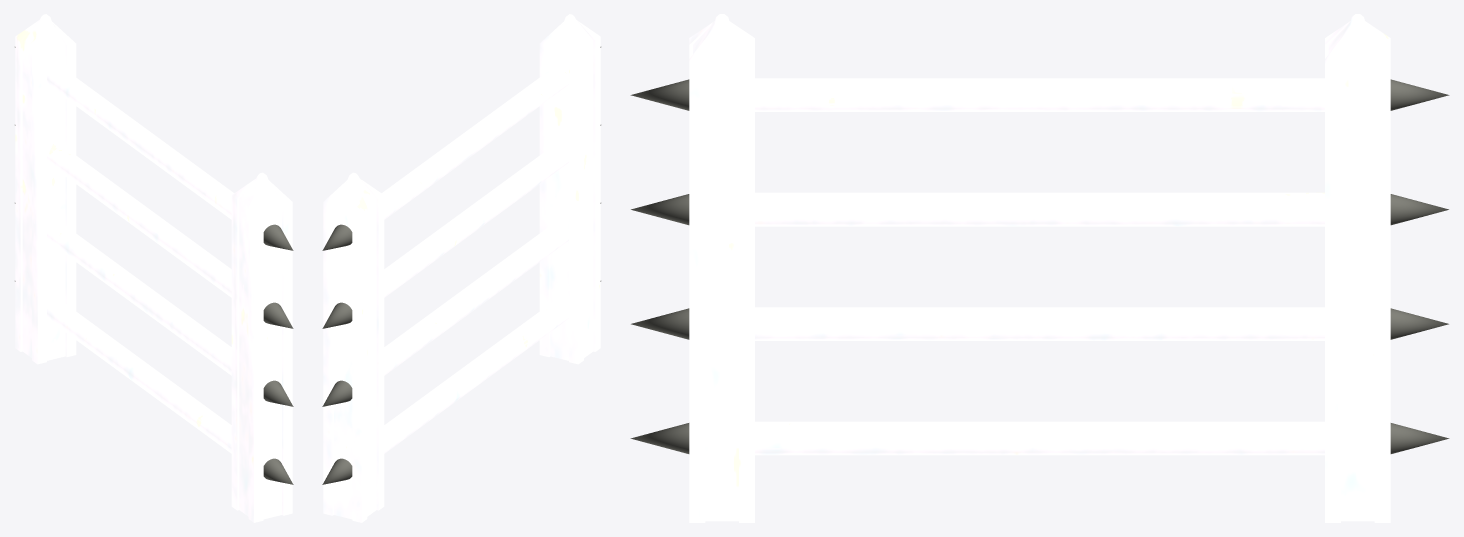
Rendered from CA_015_iron_ladder_var2.glb.
3 renders of one model, left to right at view 1: azimuth 30°, elevation 25°; view 2: azimuth 150°, elevation 25°; view 3: azimuth 270°, elevation 25°, orthographic. The views are drawn at different scales.
Visible parts, largest first — view 1: ladder_support, ladder_bars, spikes; view 2: ladder_support, ladder_bars, spikes; view 3: ladder_bars, ladder_support, spikes.
Boxes of the visible parts, x1=… form: ladder_support: x1=15, y1=14, x2=292, y2=522; ladder_bars: x1=47, y1=66, x2=234, y2=453; spikes: x1=15, y1=47, x2=293, y2=484; ladder_support: x1=323, y1=14, x2=600, y2=522; ladder_bars: x1=381, y1=66, x2=568, y2=453; spikes: x1=322, y1=47, x2=600, y2=484; ladder_bars: x1=755, y1=78, x2=1324, y2=455; ladder_support: x1=689, y1=14, x2=1390, y2=522; spikes: x1=630, y1=79, x2=1449, y2=453.
Bounding box in the file's own units: 0.18 × 1.5 × 2.25.
Materials: 2 (1 with a texture image).
